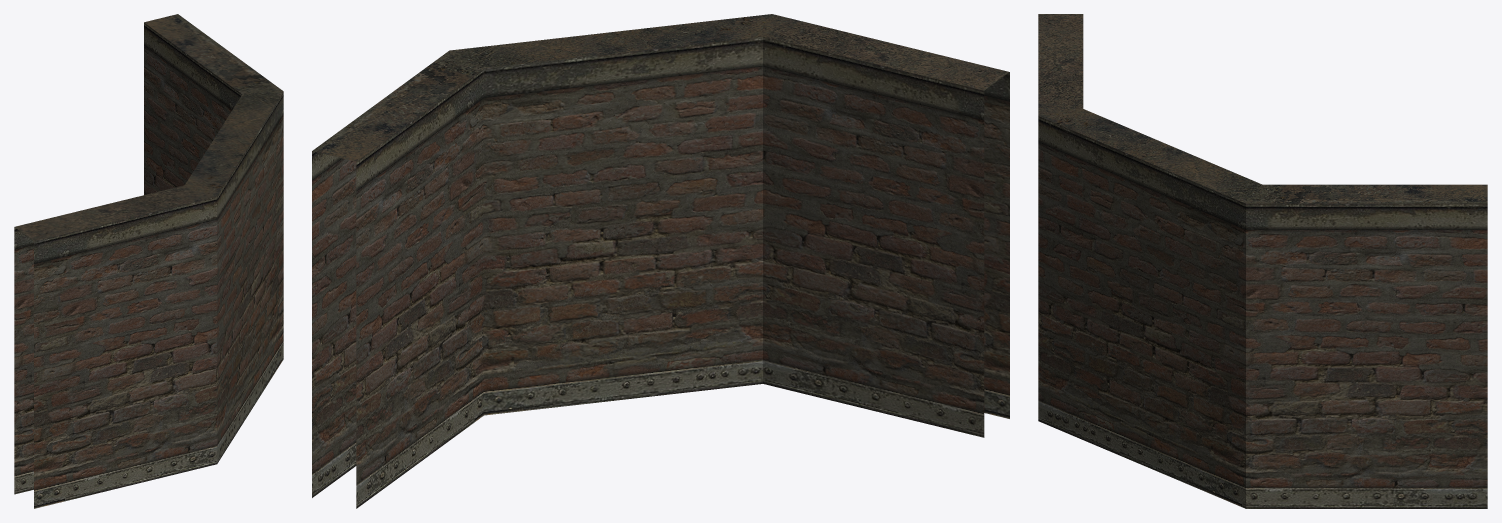
File: wall_hr_1_m2a_1.dae
3 views of the same model, side by side, from view 1: azimuth 30°, elevation 25°; view 2: azimuth 150°, elevation 25°; view 3: azimuth 270°, elevation 25° (orthographic). The views are drawn at different scales.
Parts seen in each view (by area): view 1: wall_hr_1_m2a_1; view 2: wall_hr_1_m2a_1; view 3: wall_hr_1_m2a_1.
Boxes of the visible parts, left/top/right/bottom form: wall_hr_1_m2a_1: left=14, top=14, right=283, bottom=508; wall_hr_1_m2a_1: left=312, top=14, right=1009, bottom=508; wall_hr_1_m2a_1: left=1038, top=14, right=1487, bottom=508.
Size of the model in its own units: 4 by 4 by 3.
2 materials, 2 textured.
